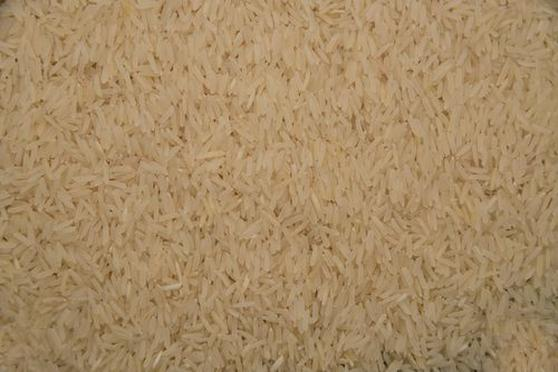rice: (6, 3, 544, 372)
